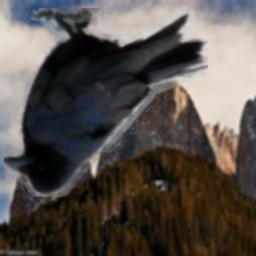Crow: (4, 8, 208, 197)
